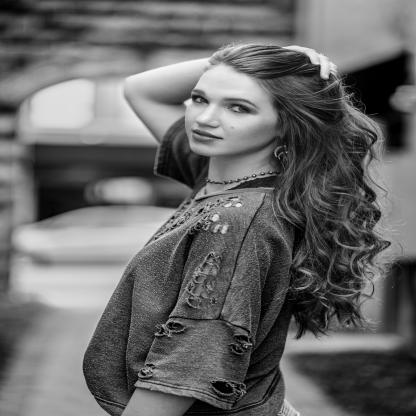Eye: (224, 101, 258, 118), (189, 91, 215, 108)
Mouth: (190, 125, 224, 145)
Nose: (194, 104, 226, 128)
